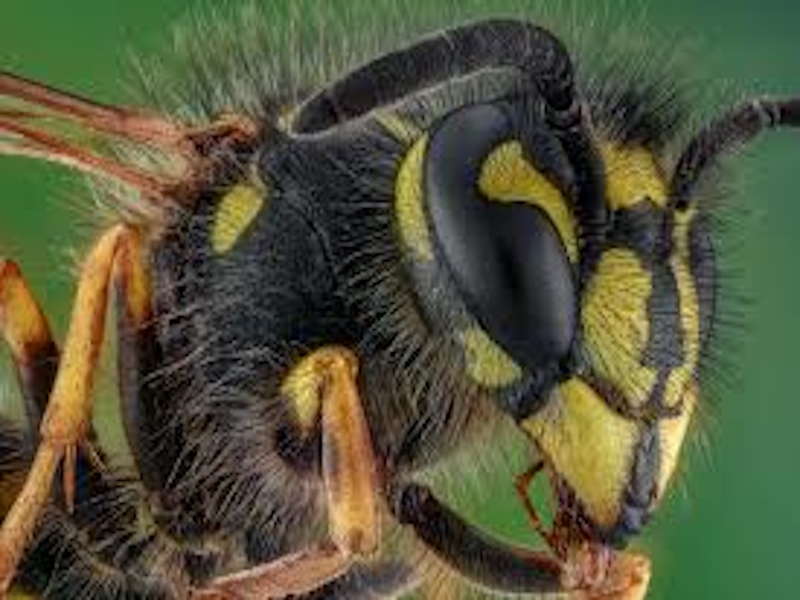chax: (1, 9, 787, 600)
